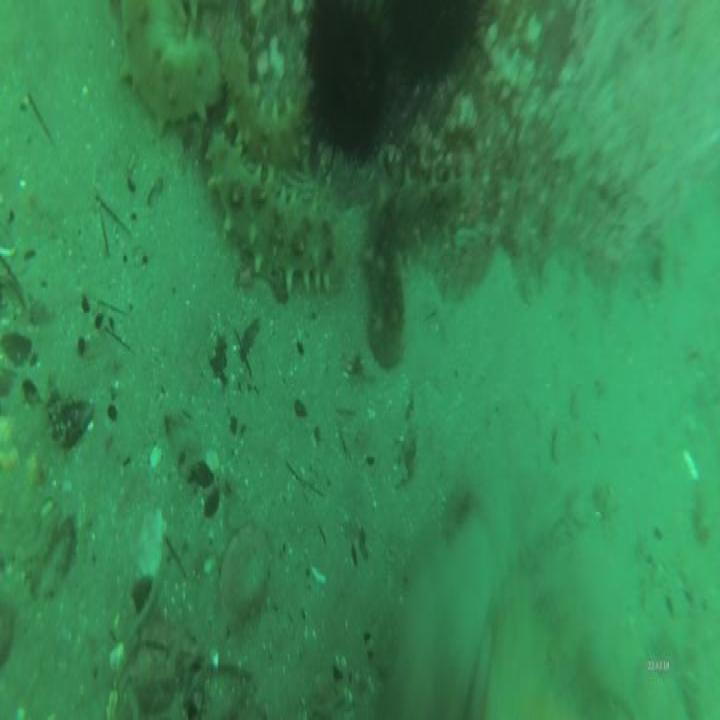echinus: (299, 0, 389, 172), (373, 0, 489, 100)
holothurian: (204, 131, 339, 306), (362, 170, 474, 372), (217, 25, 322, 178), (116, 0, 223, 128)
